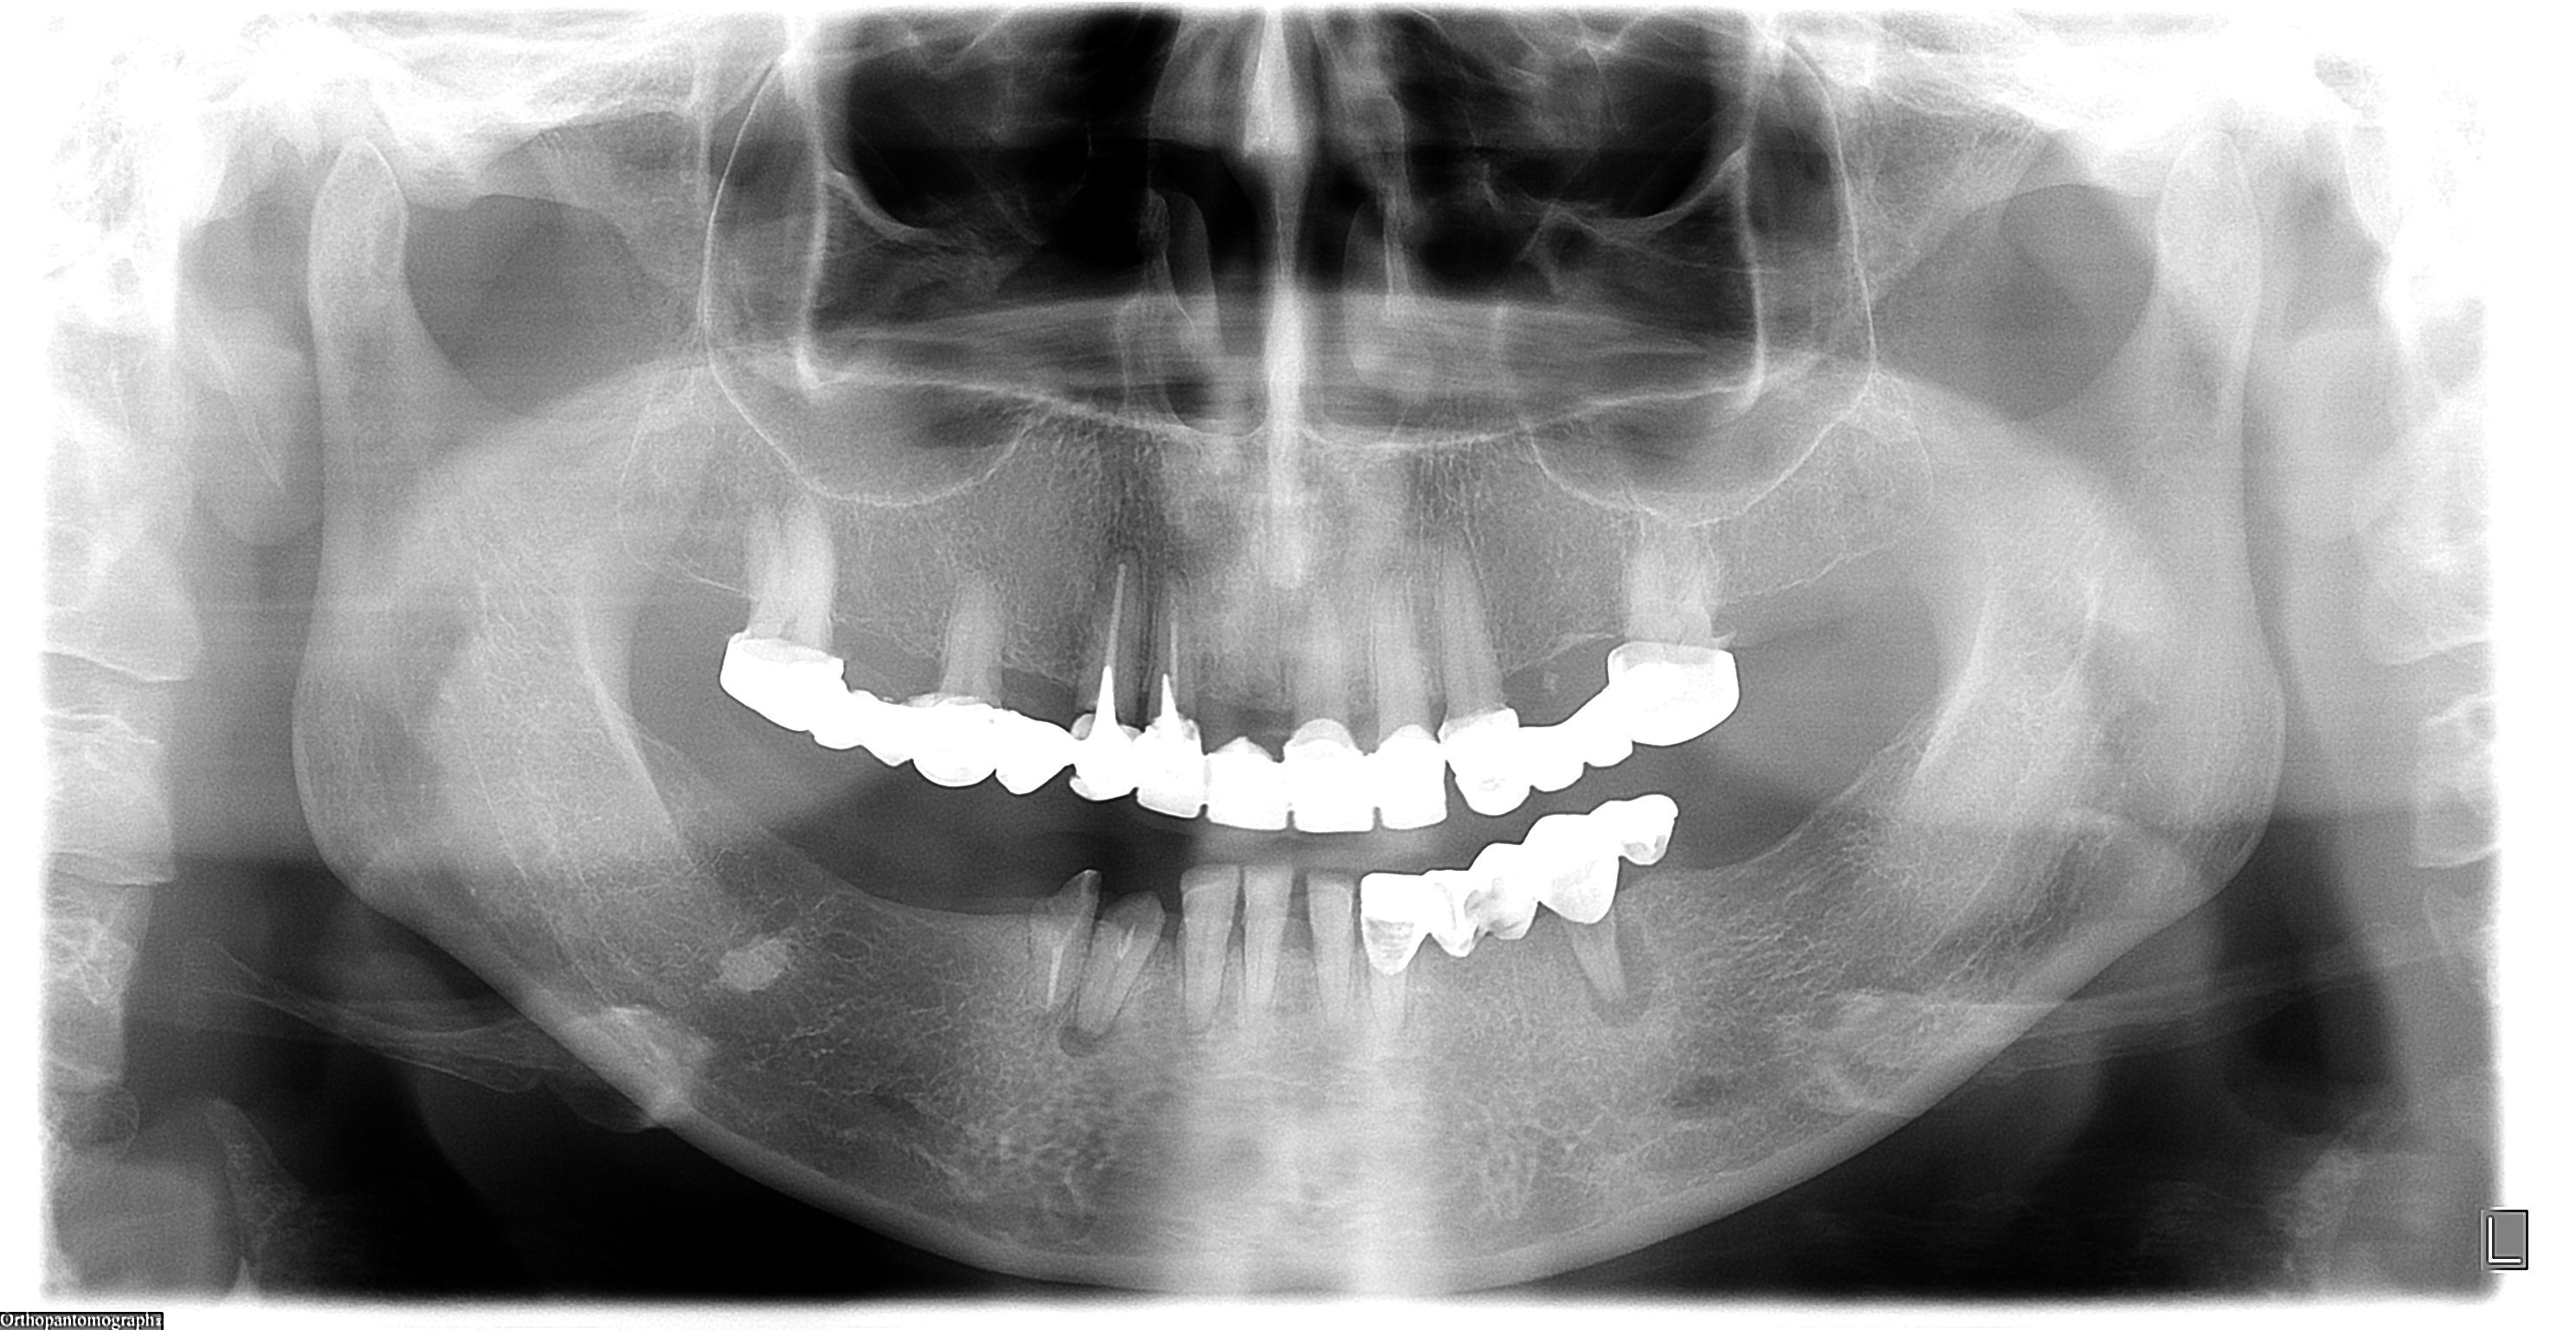API: (1582, 914, 1652, 1026)
END: (1104, 560, 1128, 689)
PRR: (721, 633, 1738, 833)
ROT: (1028, 869, 1099, 1014)
